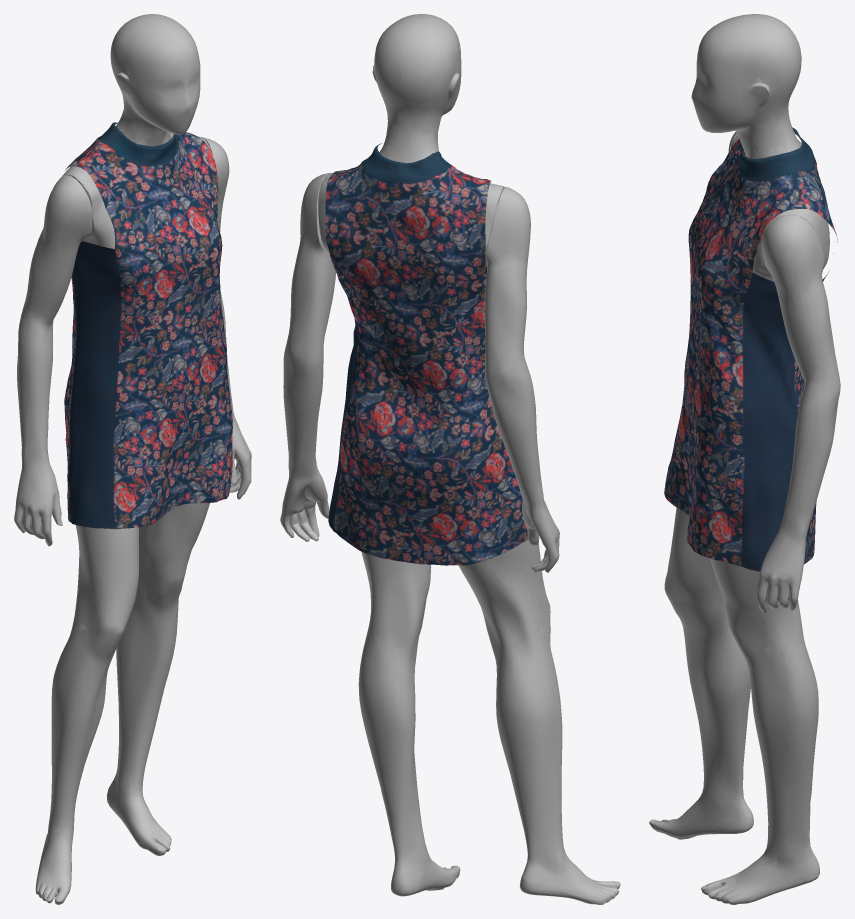
The model's file is previewDressFloarl.glb.
The picture shows the model from 3 angles, left to right: view 1: azimuth 30°, elevation 25°; view 2: azimuth 150°, elevation 25°; view 3: azimuth 270°, elevation 25°; orthographic projection. The views are drawn at different scales.
Visible parts, largest first — view 1: Mesh (2); view 2: Mesh (2); view 3: Mesh (2).
Part boxes in pixels (x1,y1,x2,y2): Mesh (2): [14, 14, 251, 904]; Mesh (2): [280, 14, 620, 904]; Mesh (2): [649, 14, 840, 904].
Bounding box in the file's own units: 57.08 × 173 × 33.83.
1 material, 1 textured.
